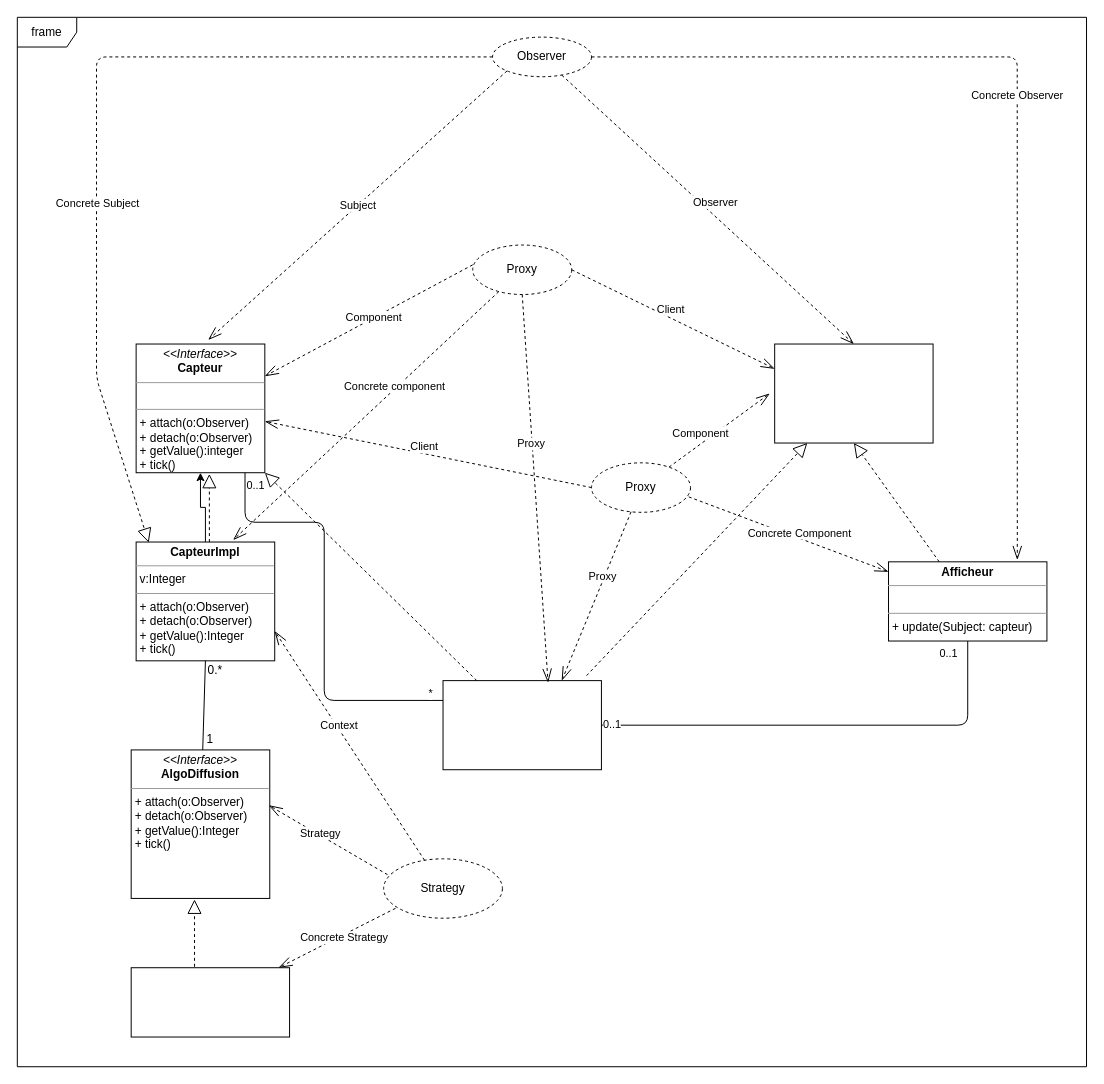
This 1104x1084 diagram has some shape labels left out. Here are the shapes that lost their labels. From the top down, the centre of each, then its label:
At pixel 853 393: "<<Interface>> ObserverdeCapteur + update(subject :Capteur)".
At pixel 521 725: "Canal + update(s:Capteur) + getValue():Integer".
At pixel 210 1002: "DiffusionAtomique + configure() + execute()".
